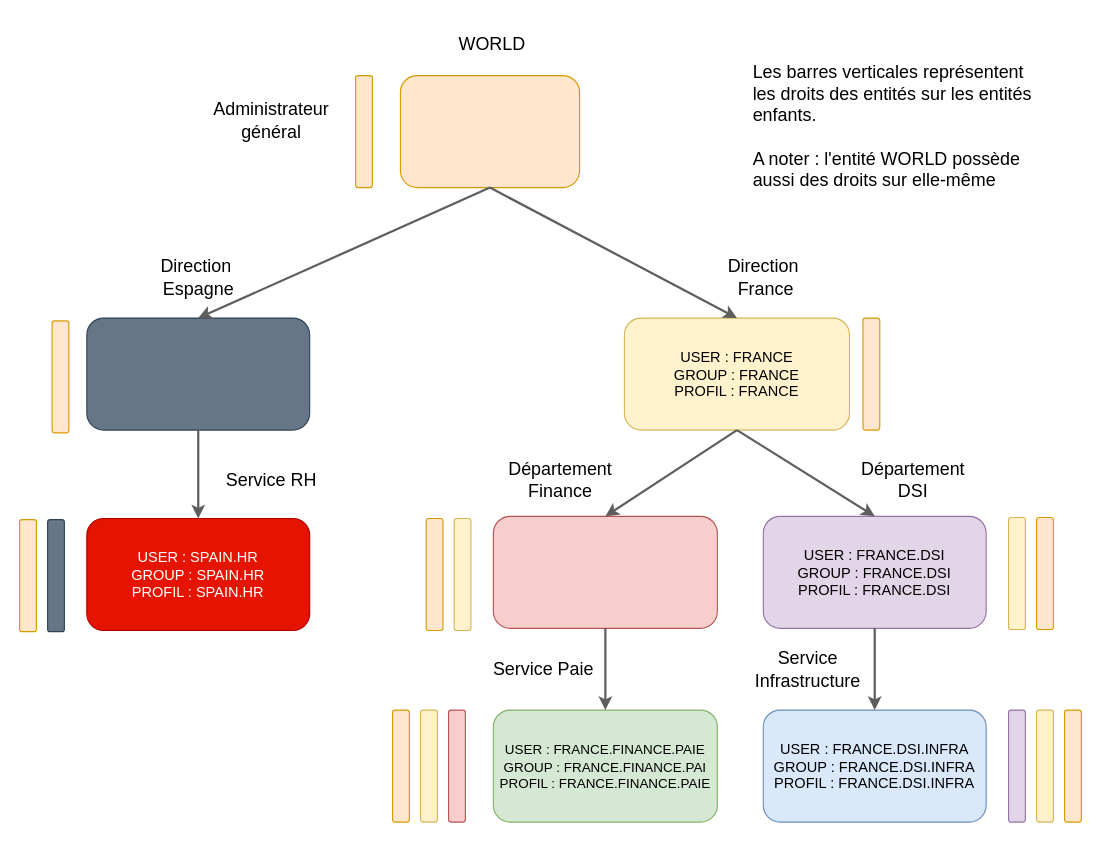
The diagram is 1101 pixels wide and 841 high, and some of its shapes have lost their labels. Here are the shapes that lost their labels. From the top down, the centre of each, then its label:
At (x=489, y=131): "USER : (vide) GROUP : (vide) PROFIL : (vide)".
At (x=198, y=373): "USER : SPAIN GROUP : SPAIN PROFIL : SPAIN".
At (x=604, y=571): "USER : FRANCE.FINANCE GROUP : FRANCE.FINANCE PROFIL : FRANCE.FINANCE".
